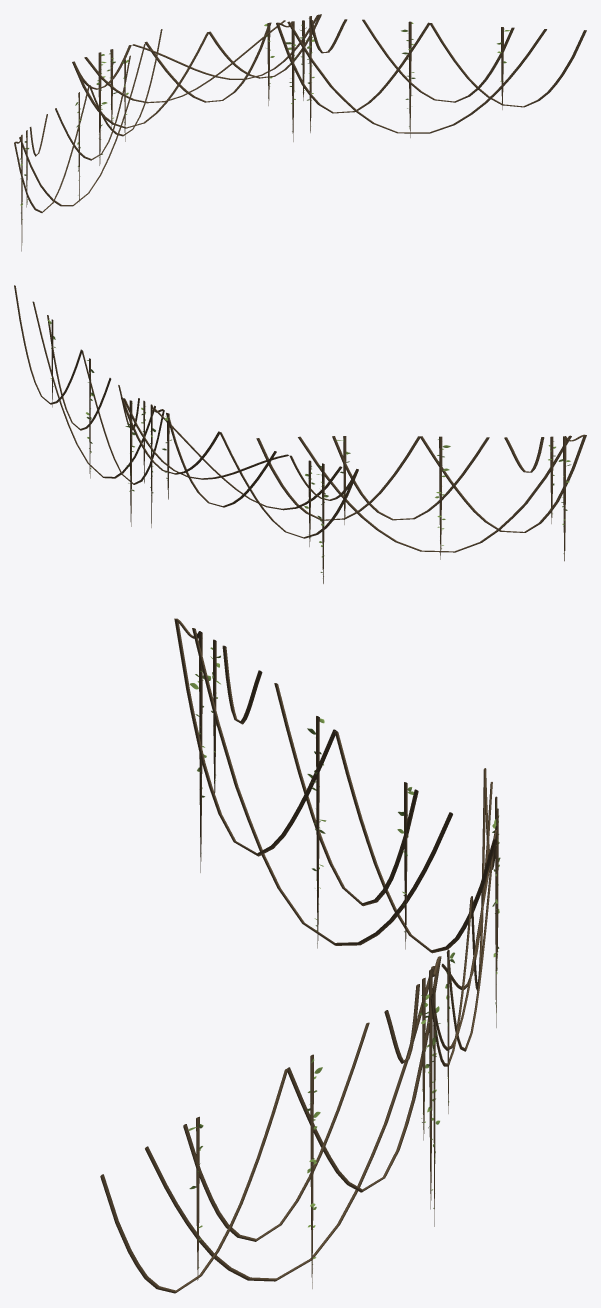
The model's file is VINES1.glb.
3 renders of one model, top to bottom at view 1: azimuth 30°, elevation 25°; view 2: azimuth 150°, elevation 25°; view 3: azimuth 270°, elevation 25°, orthographic. The views are drawn at different scales.
Visible parts, largest first — view 1: BézierCurve.003; view 2: BézierCurve.003; view 3: BézierCurve.003.
Part boxes in pixels (x1,y1,x2,y2): BézierCurve.003: (14, 14, 586, 251); BézierCurve.003: (14, 285, 586, 583); BézierCurve.003: (100, 618, 500, 1293).
Size of the model in its own units: 140 by 31.43 by 43.67.
2 materials, 2 textured.
